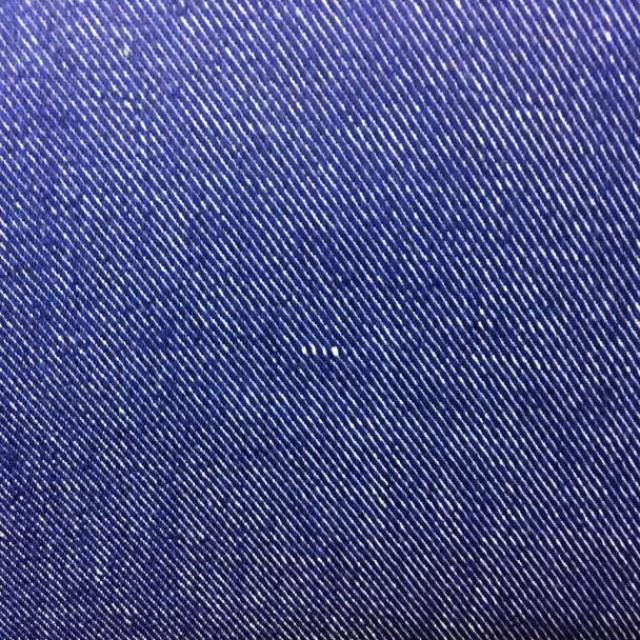Knot: (300, 342, 347, 358)
